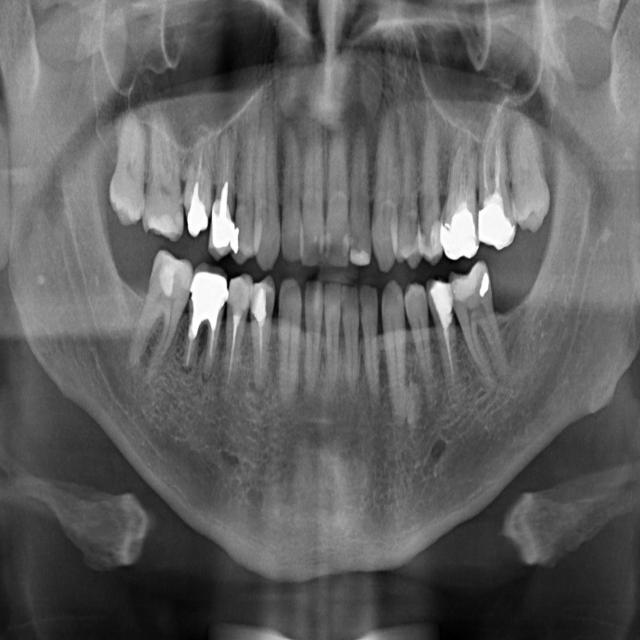3M ESPE Implant: (110, 114, 145, 228)
AGS Medikal Implant: (346, 118, 371, 267)
AMerOss Implant: (372, 111, 398, 272)
Amalgam filling: (397, 108, 423, 269)
Bicon Implant: (441, 143, 480, 261)
BioHorizons Implant: (477, 111, 516, 251)
BioLife Implant: (504, 115, 553, 233)
Camlog Implant: (446, 260, 510, 388)
Caries: (142, 116, 183, 242)
Composite filling: (425, 277, 472, 410)
Cowellmedi Implant: (403, 282, 438, 409)
Crown: (382, 280, 408, 429)
DENTSPLY Implant: (358, 281, 388, 408)
Dentatus Implant: (341, 285, 365, 398)
Dentis Implant: (321, 282, 341, 395)
Dentium Implant: (301, 279, 324, 398)
Euroteknika Implant: (273, 278, 303, 415)
Filling: (242, 274, 278, 395)
Frontier Implant: (217, 273, 253, 402)
Hiossen Implant: (182, 136, 212, 239)
Implant: (122, 248, 199, 383)
Implant Direct: (178, 261, 231, 385)
MIS Implant: (206, 132, 243, 264)
Mandible: (229, 132, 265, 265)
Maxilla: (252, 106, 283, 272)
Megagen Implant: (281, 118, 305, 264)
Neodent Implant: (301, 113, 328, 266)
Neoss Implant: (323, 123, 349, 267)
